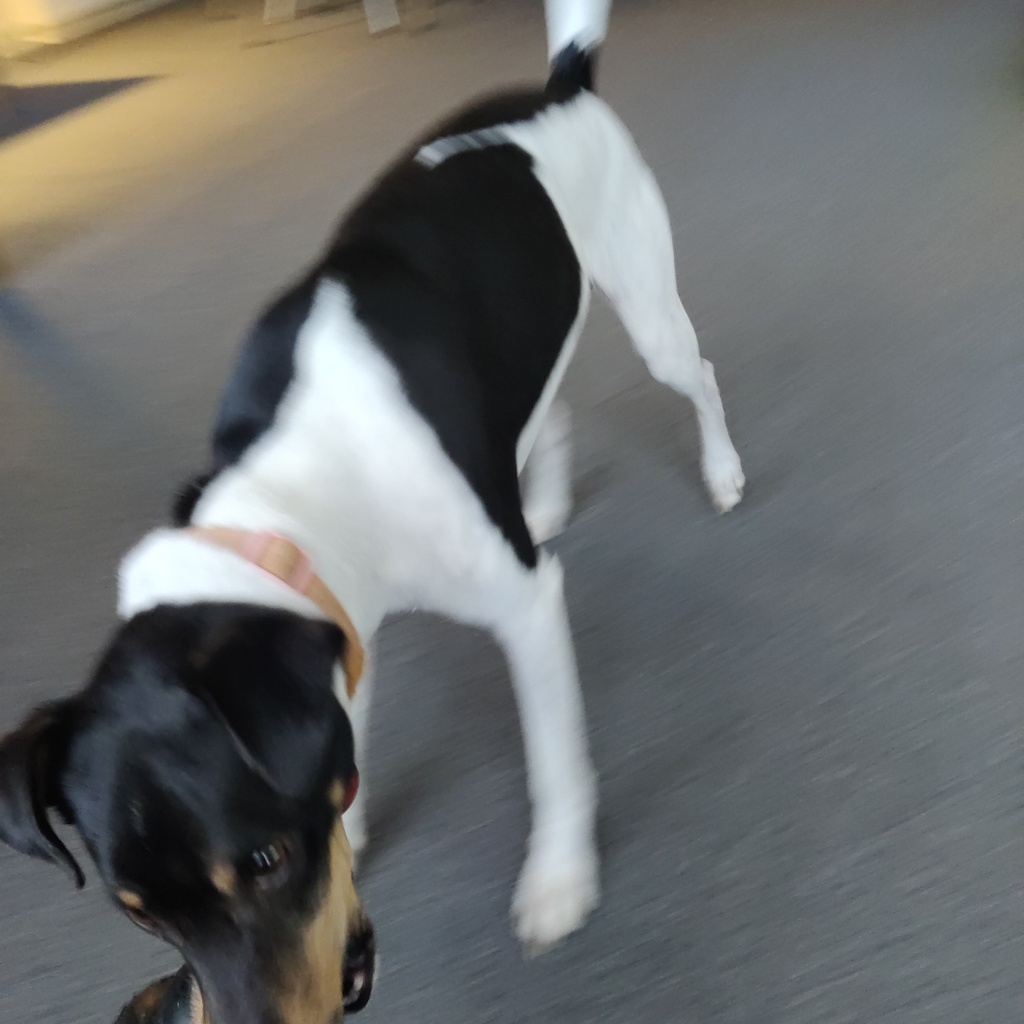Dog: (0, 0, 770, 1024)
